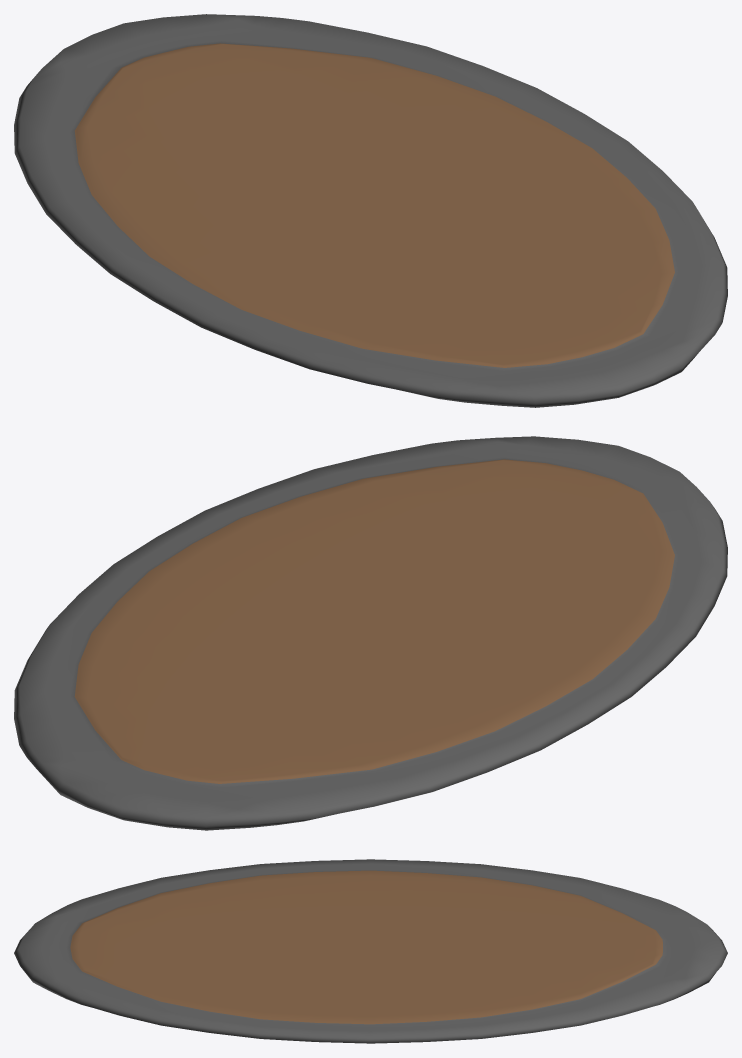
File: Shield_02.fbx
3 views of the same model, one above another, from view 1: azimuth 30°, elevation 25°; view 2: azimuth 150°, elevation 25°; view 3: azimuth 270°, elevation 25° (orthographic). The views are drawn at different scales.
Visible parts, largest first — view 1: Shield_02; view 2: Shield_02; view 3: Shield_02.
Part boxes in pixels (left/top/right/bottom): Shield_02: left=14, top=14, right=727, bottom=407; Shield_02: left=14, top=436, right=727, bottom=830; Shield_02: left=14, top=859, right=727, bottom=1043.
Size of the model in its own units: 37.29 by 1.16 by 62.18.
